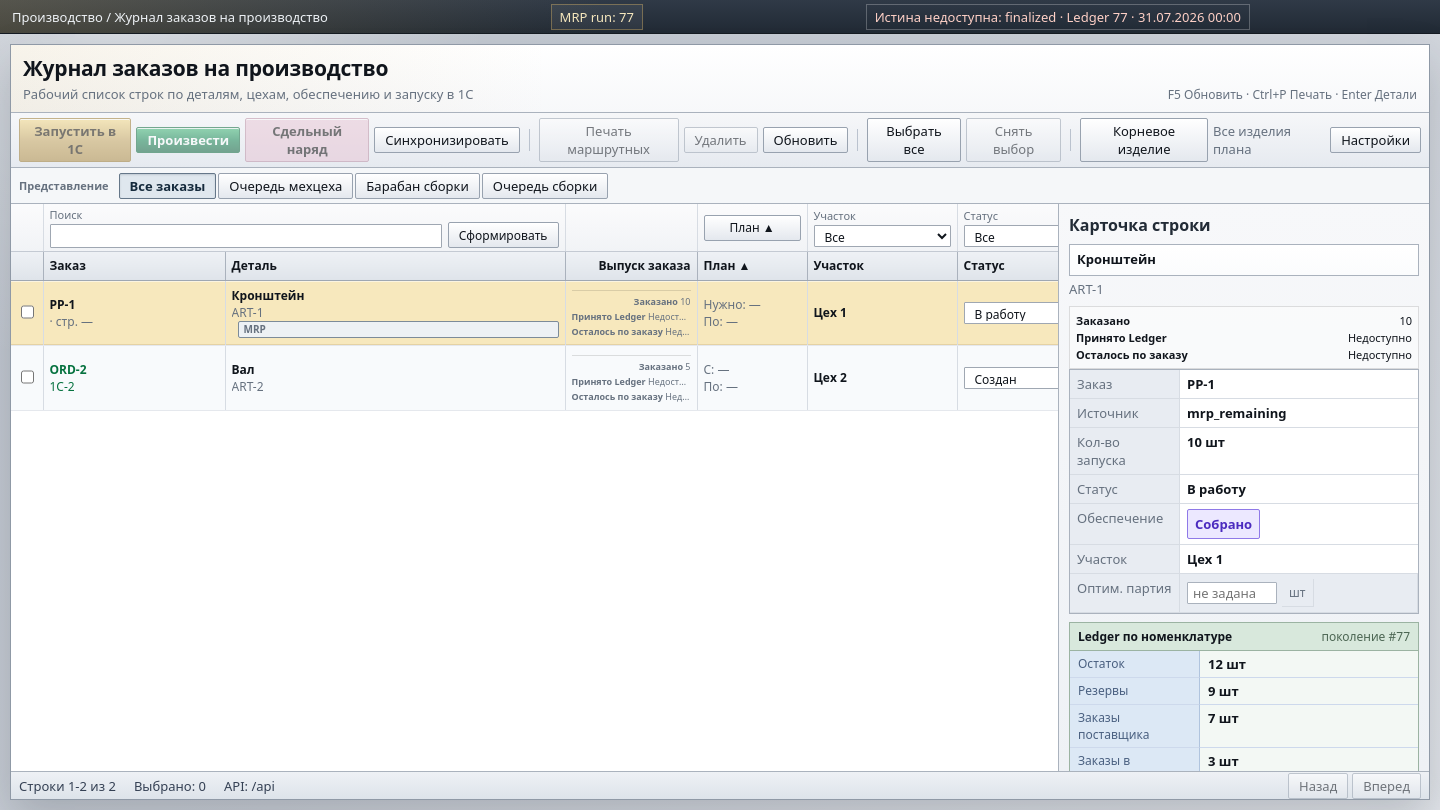
Scenario: ProductionControlPage — characterization › opens launch printing before asynchronous export and names internal reserves
The width and height of the screenshot is (1440, 810).
Check: the text "MRP run: 77" is shown, box [551,4,643,30]
Click the checkbox named "Выбрать заказ PP-1": (28, 312) [21,300,34,324]
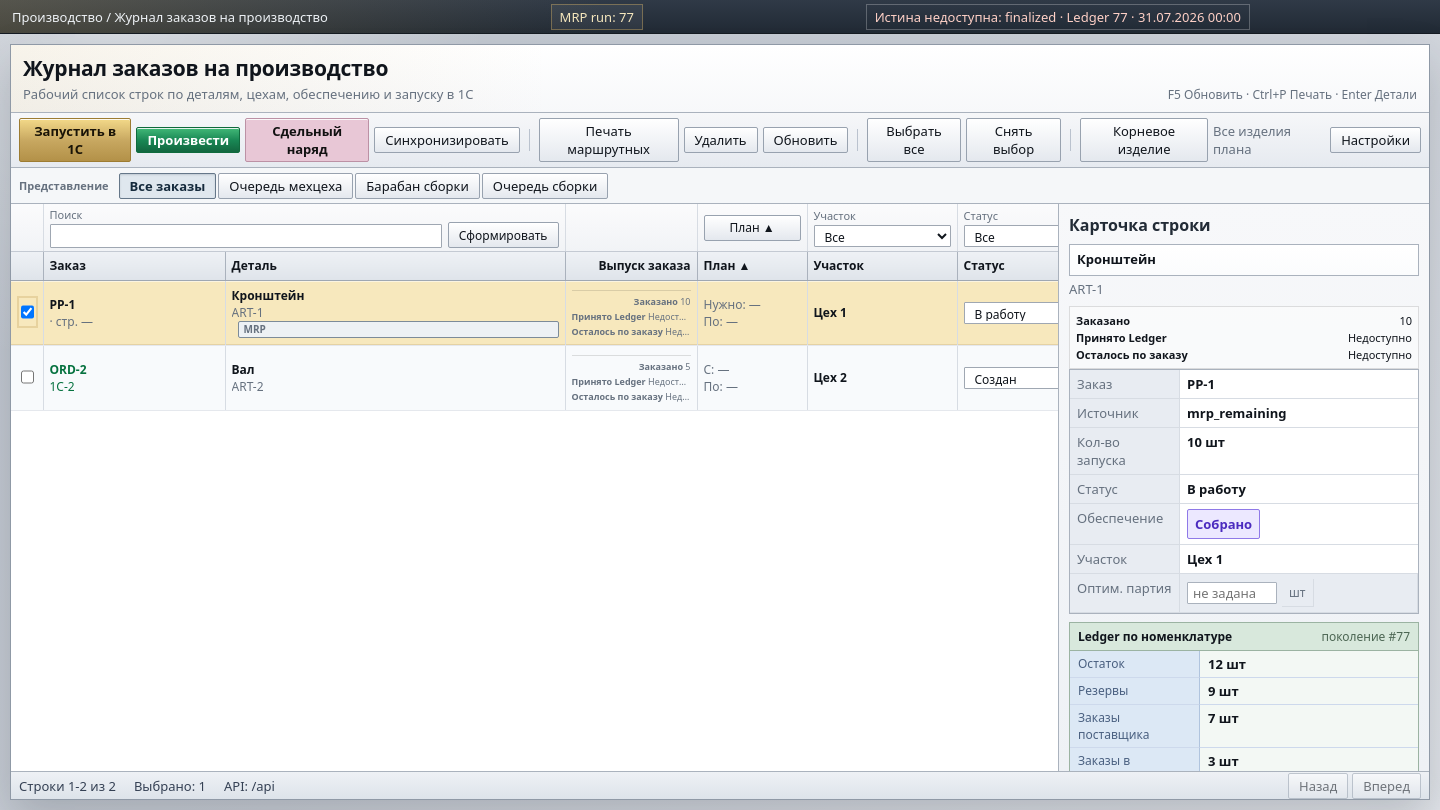
Click the button "Запустить в 1С": (75, 140) [19,118,131,162]
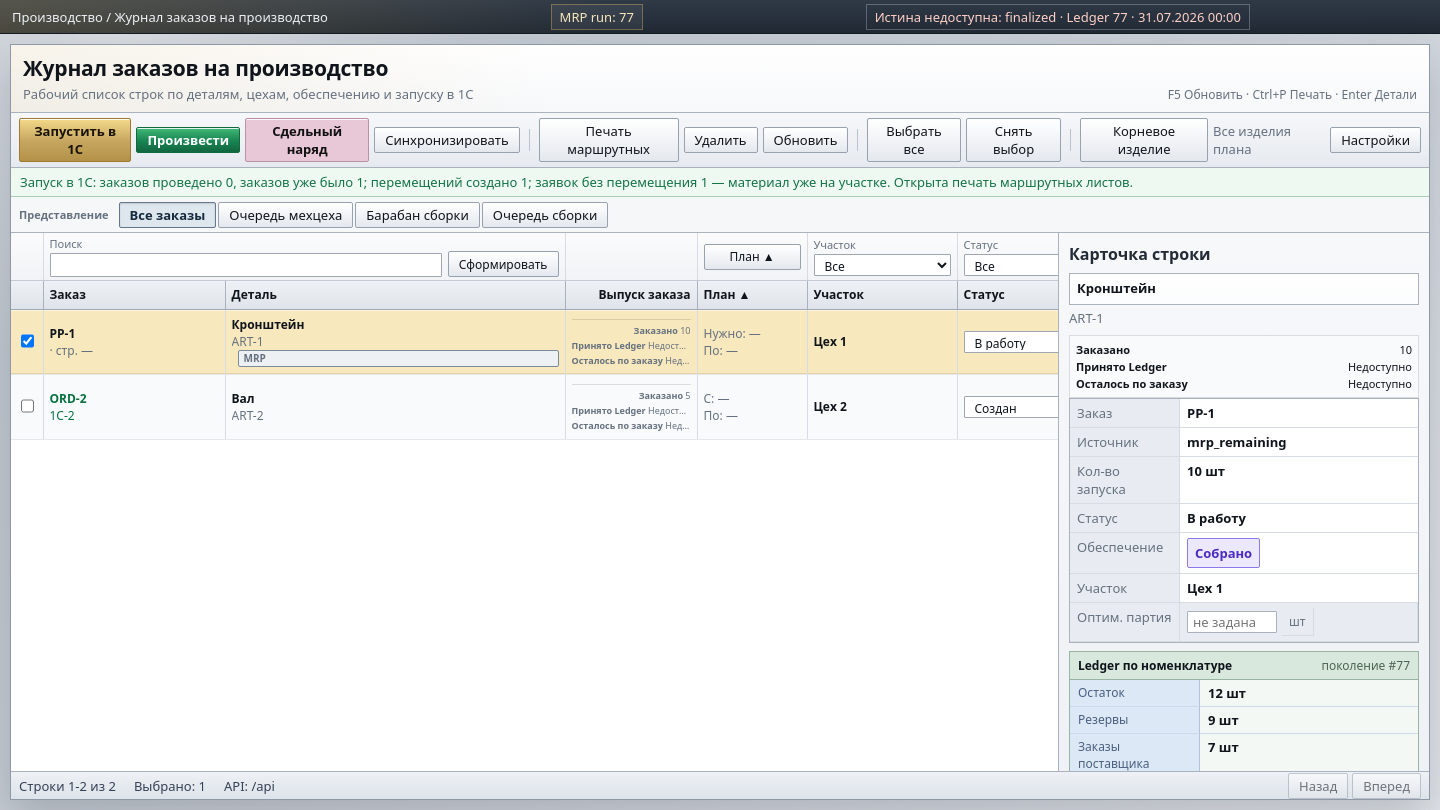
Check: the text "заказов уже было 1" shows "материал уже на участке", box [20,173,1133,191]
